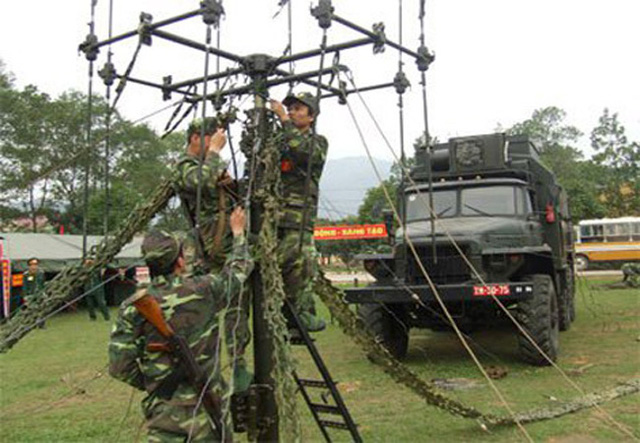plate: (470, 284, 512, 299)
